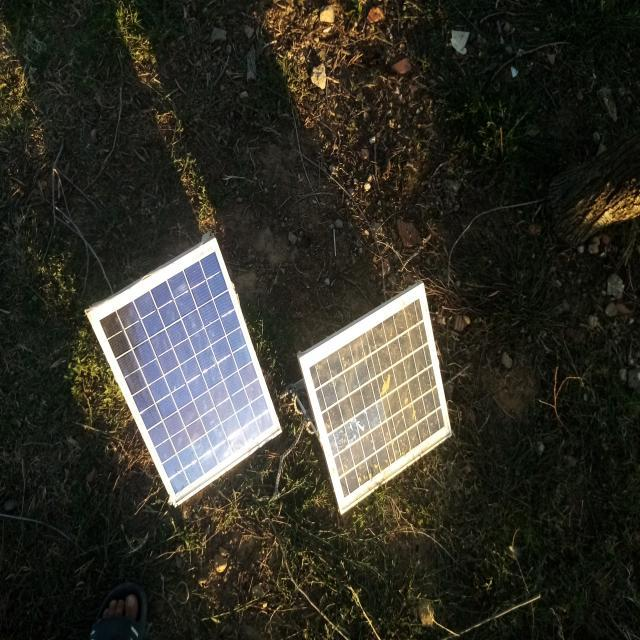faulty: (301, 283, 451, 514)
no faulty: (87, 239, 282, 505)
